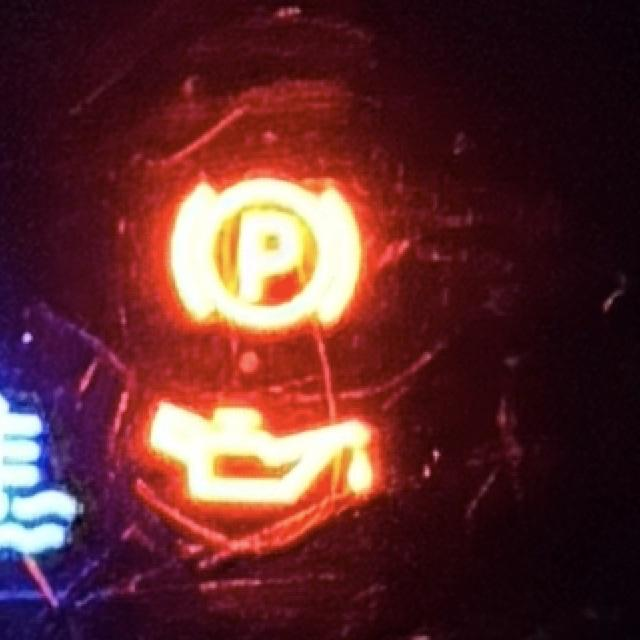High Engine Temperature: (1, 383, 88, 565)
Low Oil Pressure Issue: (146, 402, 382, 511)
Parking Break On: (163, 179, 369, 337)
